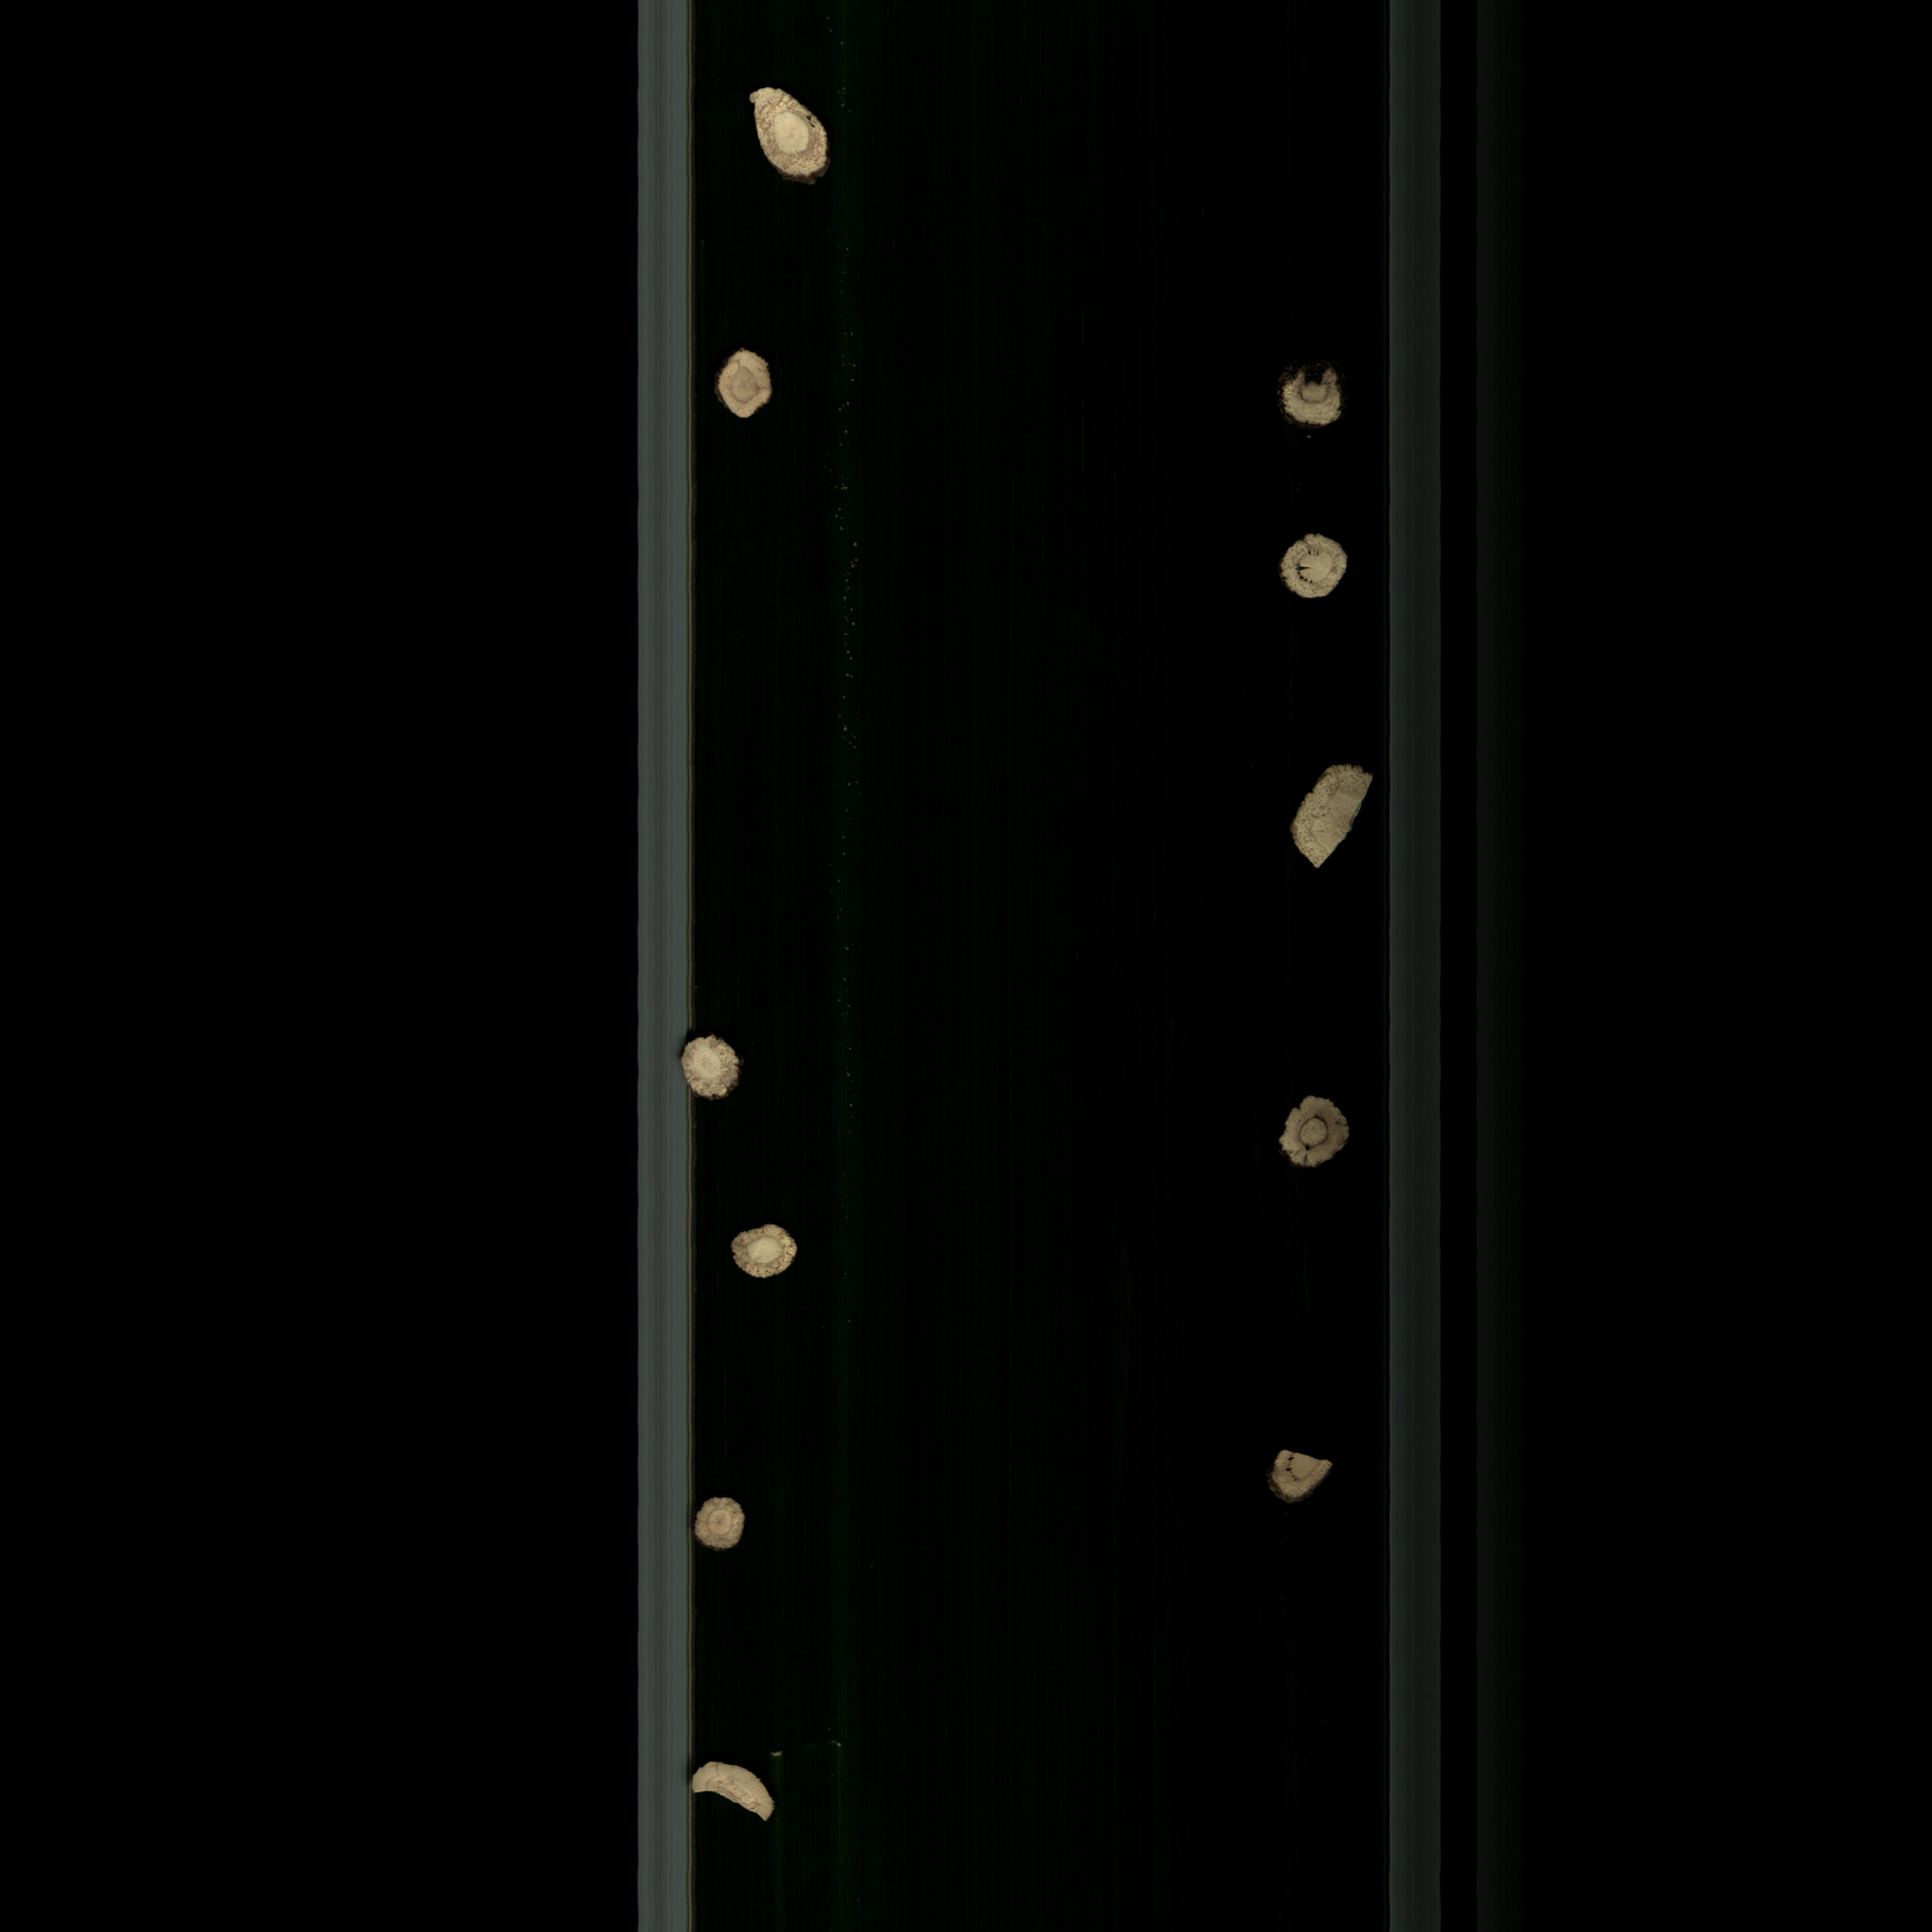debris: (1279, 759, 1387, 881), (690, 1752, 787, 1835)
hole: (1279, 524, 1368, 621)
moldy: (732, 76, 837, 195), (709, 1214, 809, 1290), (1274, 1088, 1350, 1180), (1269, 357, 1350, 439), (708, 343, 782, 430), (685, 1490, 761, 1564), (672, 1031, 752, 1102), (1263, 1438, 1336, 1514)
